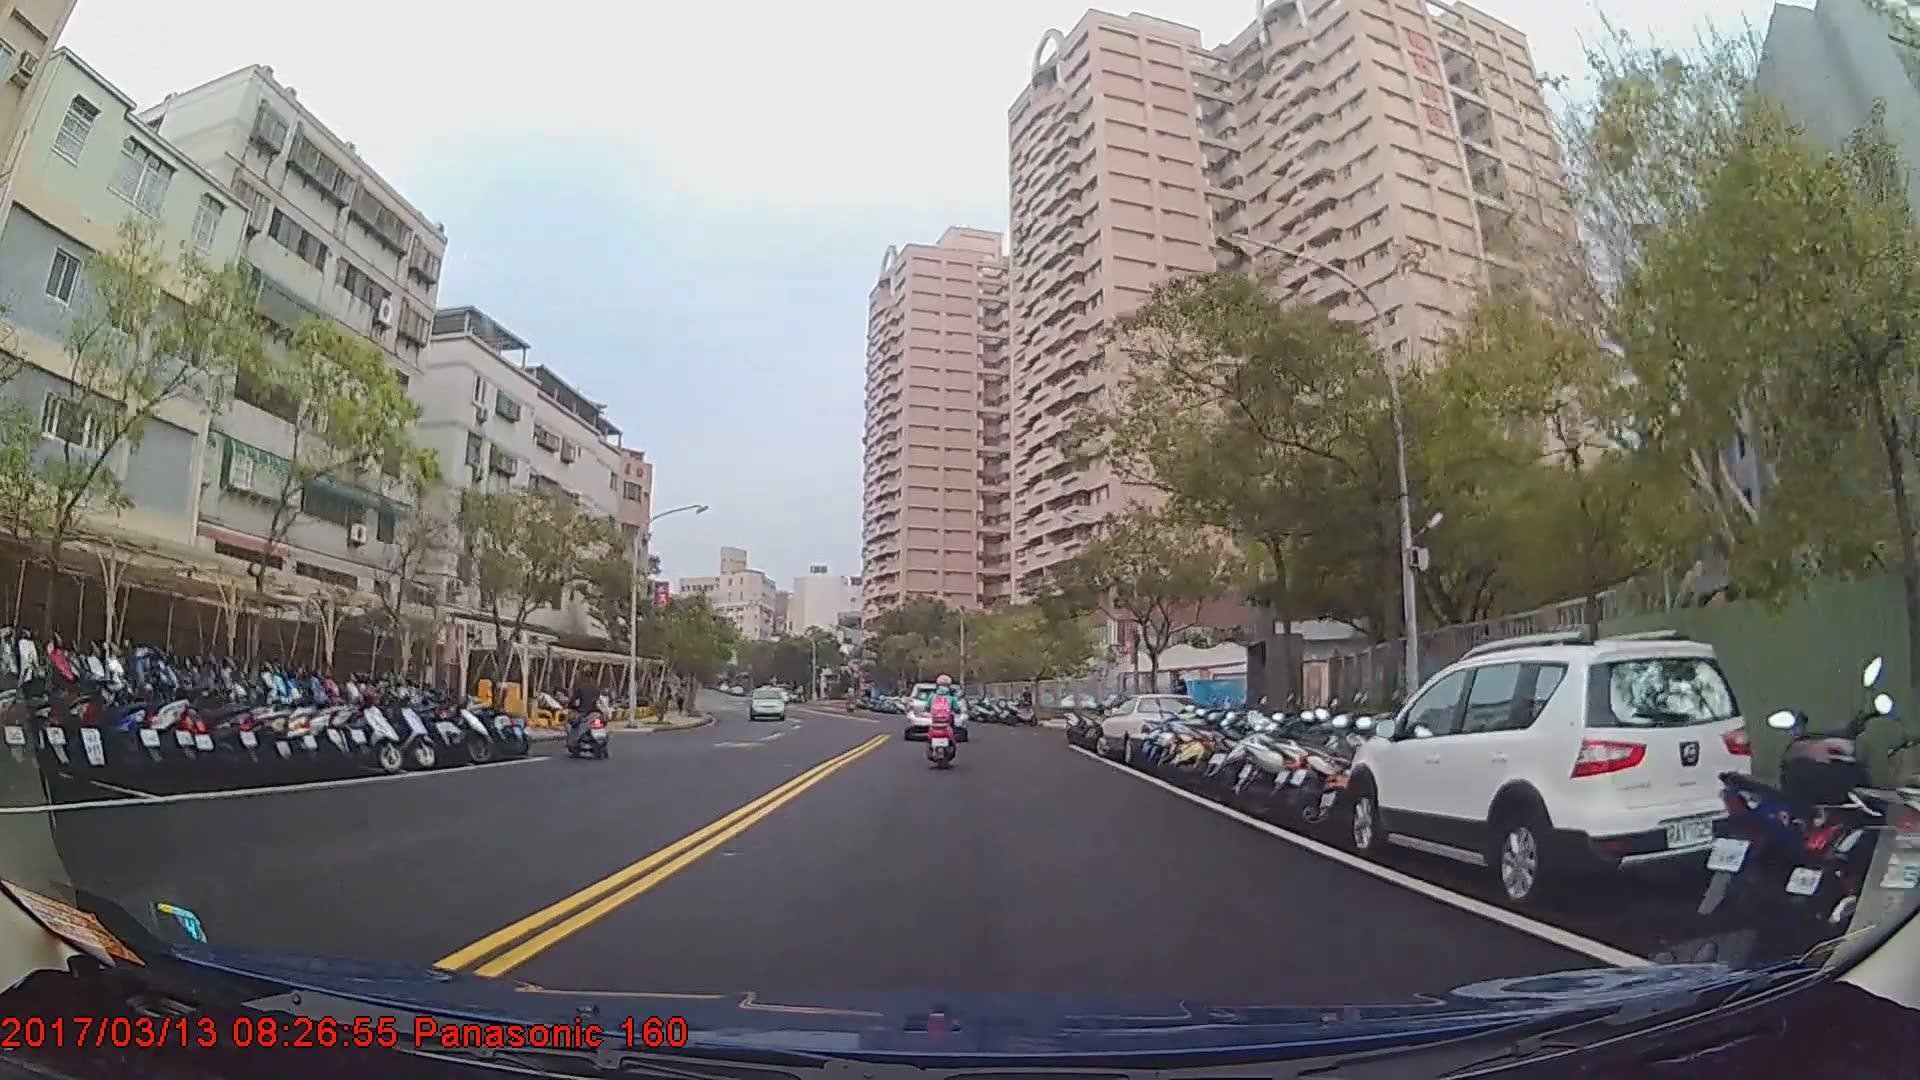rider: (556, 666, 615, 759), (921, 672, 964, 769)
vehicle: (1343, 638, 1750, 910), (1095, 693, 1204, 765), (901, 680, 967, 737), (746, 685, 788, 719)
